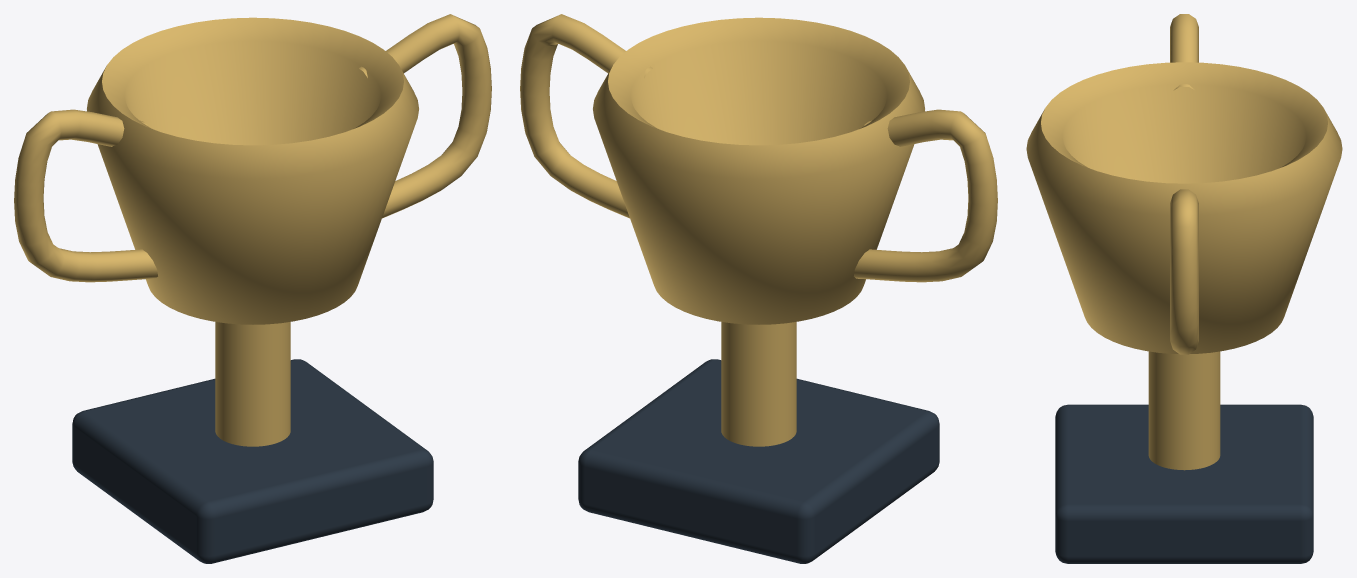
File: squash-club-and-racket-workshop-trophy-cup-b75f1eac__29779.glb
The picture shows the model from 3 angles, left to right: view 1: azimuth 30°, elevation 25°; view 2: azimuth 150°, elevation 25°; view 3: azimuth 270°, elevation 25°; orthographic projection. The views are drawn at different scales.
Visible parts, largest first — view 1: trophy-cup; view 2: trophy-cup; view 3: trophy-cup.
Part boxes in pixels (<box>): trophy-cup: <box>14,14,491,563</box>; trophy-cup: <box>520,14,997,563</box>; trophy-cup: <box>1026,14,1342,563</box>.
Bounding box in the file's own units: 0.3617 × 0.3125 × 0.22.
